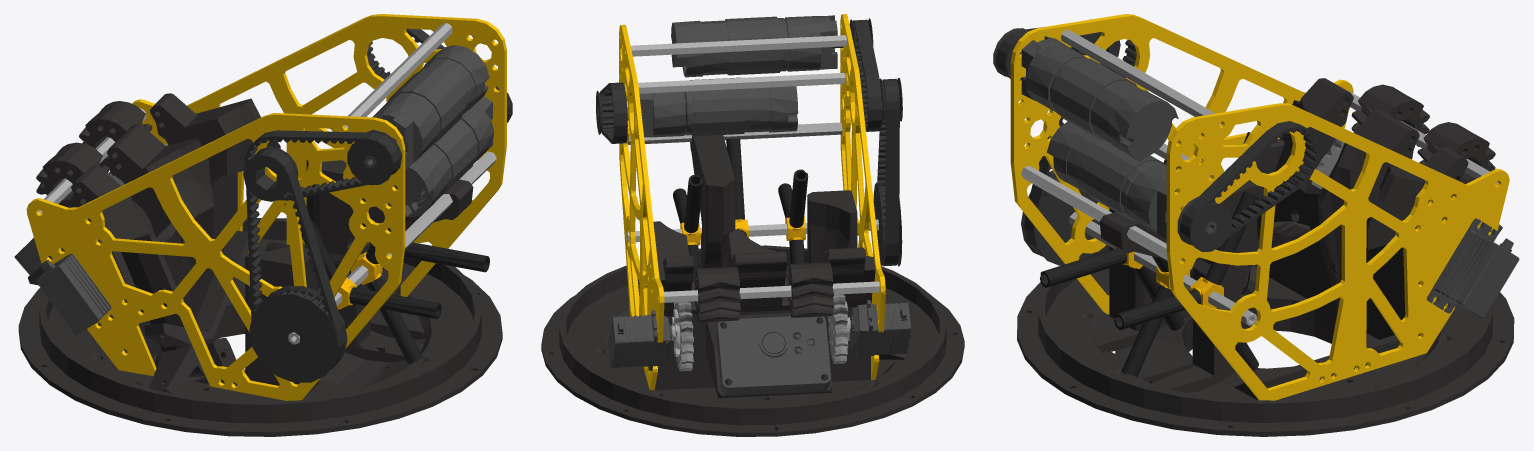
The model's file is turret.glb.
3 renders of one model, left to right at view 1: azimuth 30°, elevation 25°; view 2: azimuth 150°, elevation 25°; view 3: azimuth 270°, elevation 25°, orthographic. The views are drawn at different scales.
Visible parts, largest first — view 1: turret_1, turret_7, turret_0, turret_8, turret_5, turret_3, turret_4, turret_2; view 2: turret_1, turret_0, turret_7, turret_4, turret_5, turret_3, turret_9, turret_8, turret_2, turret_6; view 3: turret_1, turret_7, turret_0, turret_3, turret_4, turret_5, turret_8, turret_2, turret_9.
Boxes of the visible parts, <box> form: turret_1: <box>18,93,502,436</box>; turret_7: <box>26,14,506,400</box>; turret_0: <box>14,45,494,334</box>; turret_8: <box>243,86,512,382</box>; turret_5: <box>244,28,510,363</box>; turret_3: <box>266,203,489,363</box>; turret_4: <box>38,23,496,344</box>; turret_2: <box>337,252,382,309</box>; turret_1: <box>541,135,964,436</box>; turret_0: <box>597,15,911,394</box>; turret_7: <box>619,14,885,390</box>; turret_4: <box>626,35,880,302</box>; turret_5: <box>599,19,899,266</box>; turret_3: <box>673,138,808,281</box>; turret_9: <box>673,294,848,371</box>; turret_8: <box>596,18,902,266</box>; turret_2: <box>680,217,805,245</box>; turret_6: <box>671,301,850,356</box>; turret_1: <box>1017,78,1514,436</box>; turret_7: <box>1010,14,1509,400</box>; turret_0: <box>1021,36,1519,318</box>; turret_3: <box>1040,159,1259,376</box>; turret_4: <box>1021,29,1497,325</box>; turret_5: <box>996,27,1319,256</box>; turret_8: <box>993,19,1231,265</box>; turret_2: <box>1116,247,1223,308</box>; turret_9: <box>1311,138,1344,189</box>.
Size of the model in its own units: 11.18 by 8.25 by 11.62.
